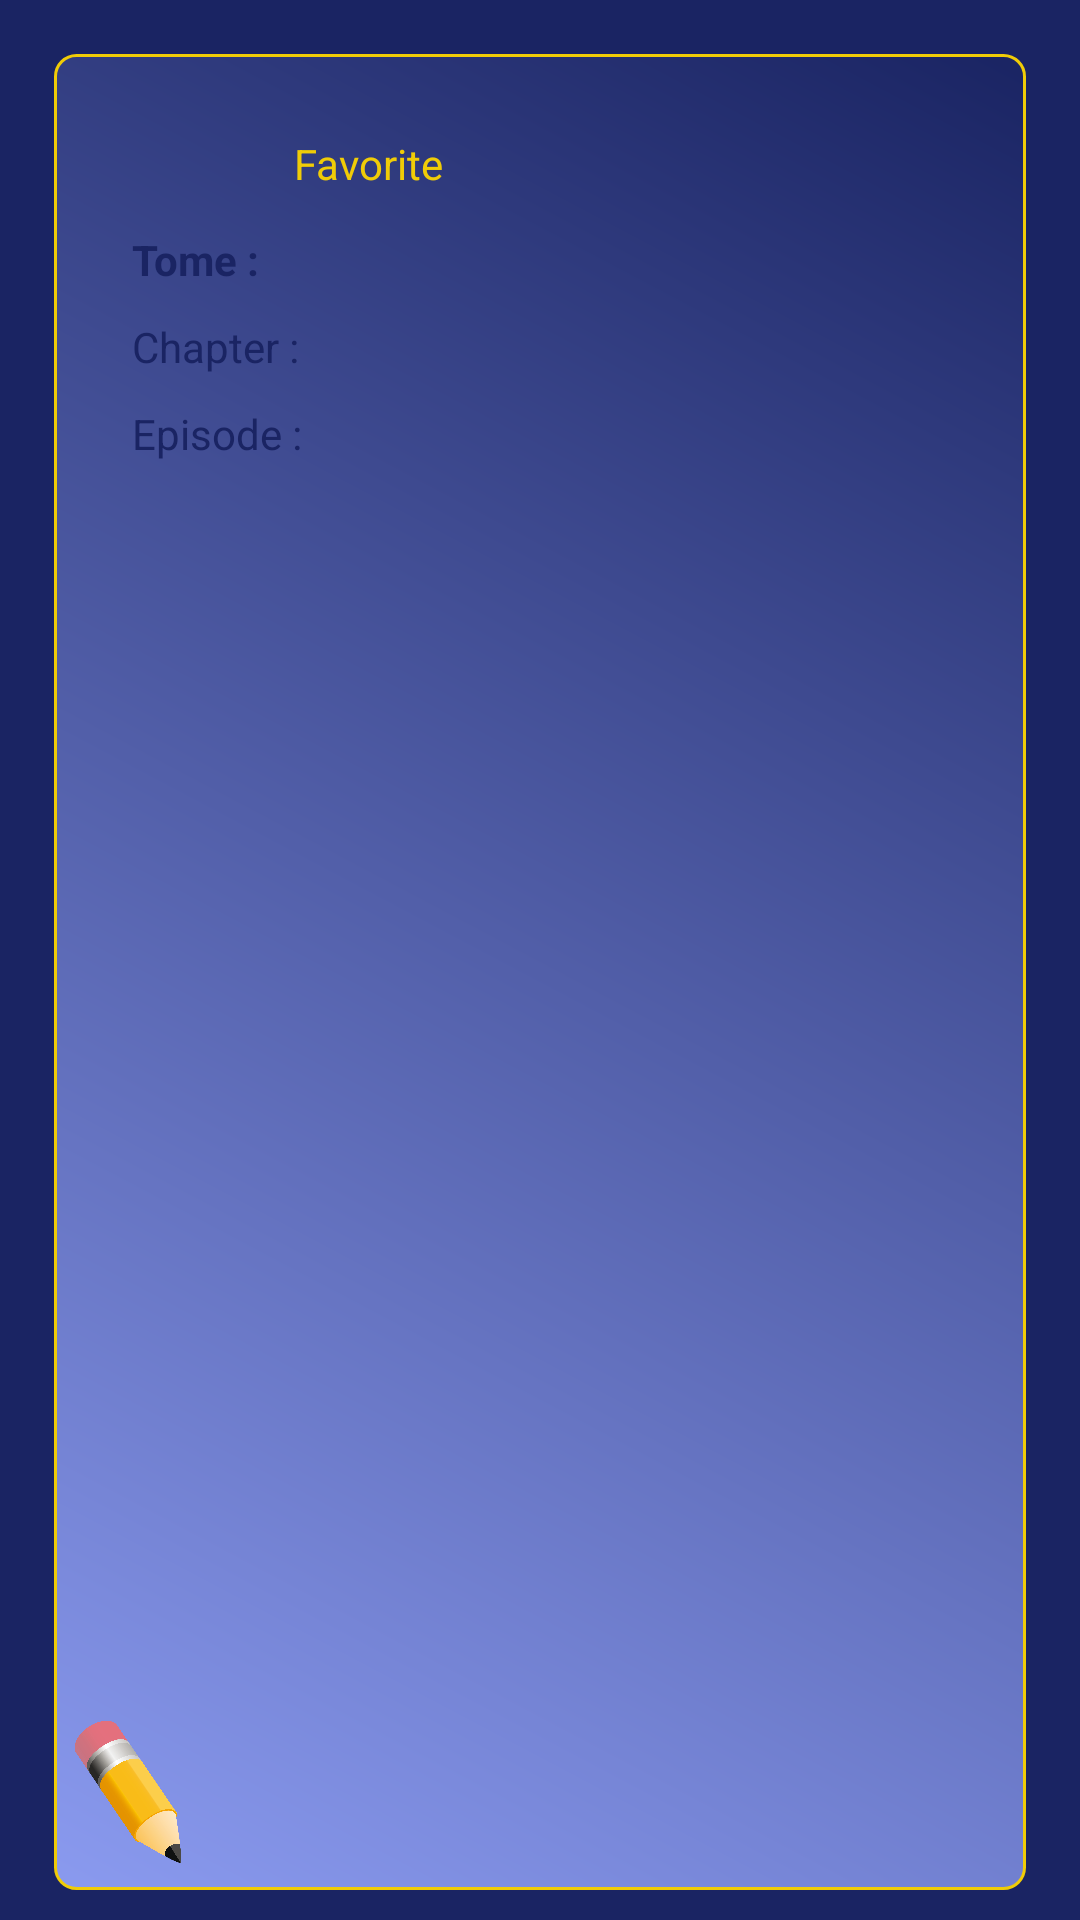

Where to tap for icons on this 1080px x 1920px app screen, as [x,y]:
Image button to update Info: [129,1791]
